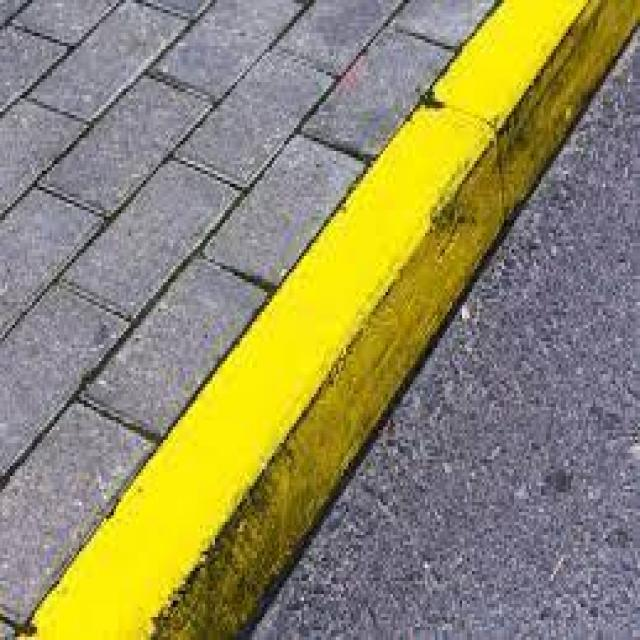curb: (21, 100, 510, 638), (424, 3, 639, 222)
